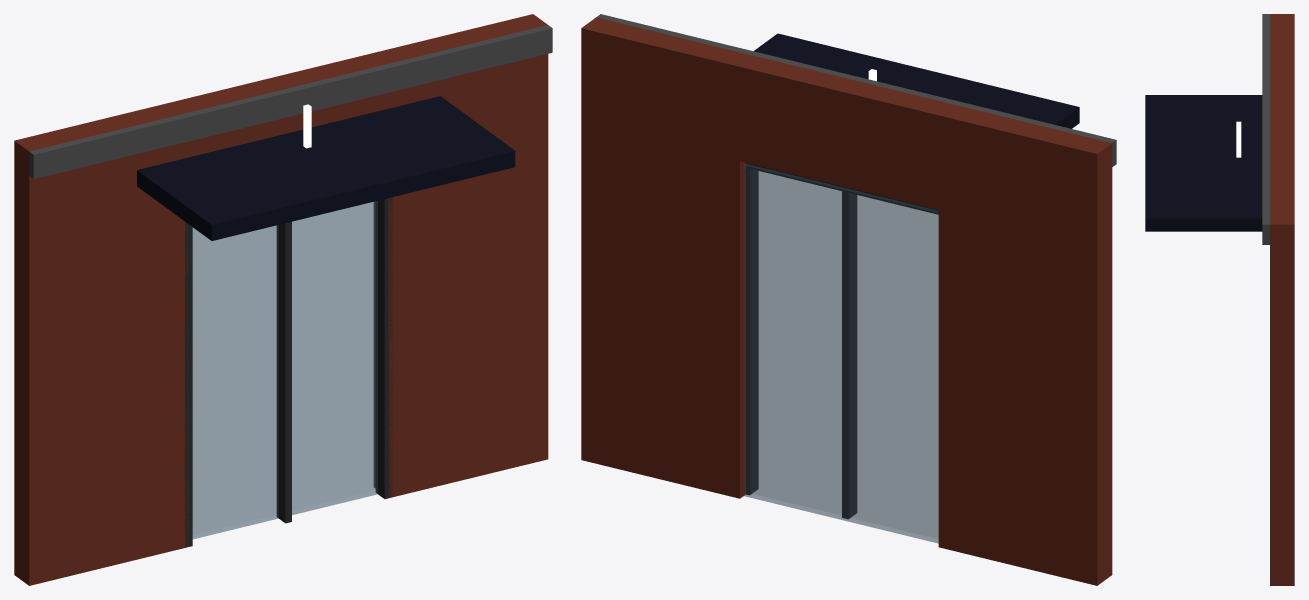
Rendered from KIT_Wall_4m_Door_Brick.glb.
3 views of the same model, side by side, from view 1: azimuth 30°, elevation 25°; view 2: azimuth 150°, elevation 25°; view 3: azimuth 270°, elevation 25° (orthographic). The views are drawn at different scales.
Visible parts, largest first — view 1: KIT_Wall_4m_Door_Brick; view 2: KIT_Wall_4m_Door_Brick; view 3: KIT_Wall_4m_Door_Brick.
Part boxes in pixels (x1,y1,x2,y2): KIT_Wall_4m_Door_Brick: (14, 14, 552, 585); KIT_Wall_4m_Door_Brick: (581, 14, 1116, 585); KIT_Wall_4m_Door_Brick: (1145, 14, 1294, 585).
Size of the model in its own units: 4 by 3.2 by 1.2.
